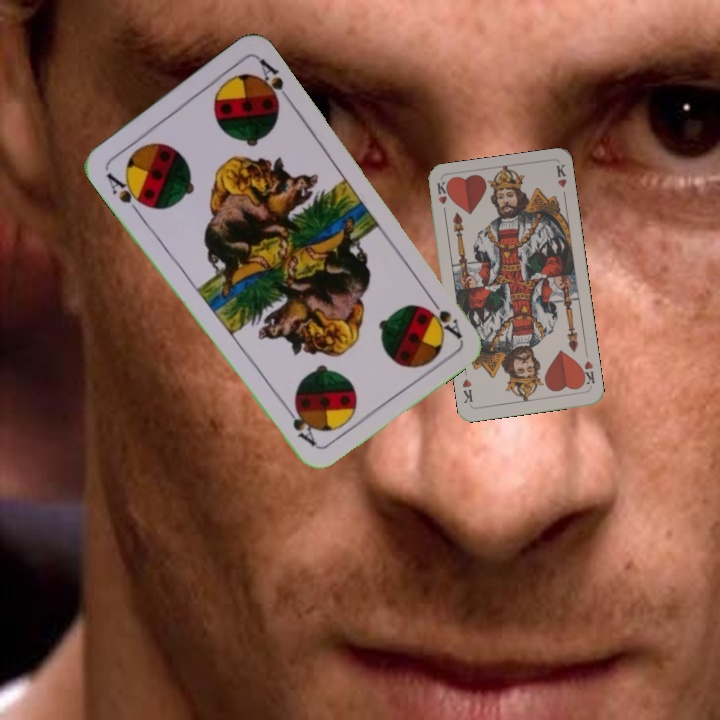HK: (433, 178, 451, 219), (576, 357, 597, 389)
SA: (102, 168, 150, 217), (420, 290, 465, 341)
